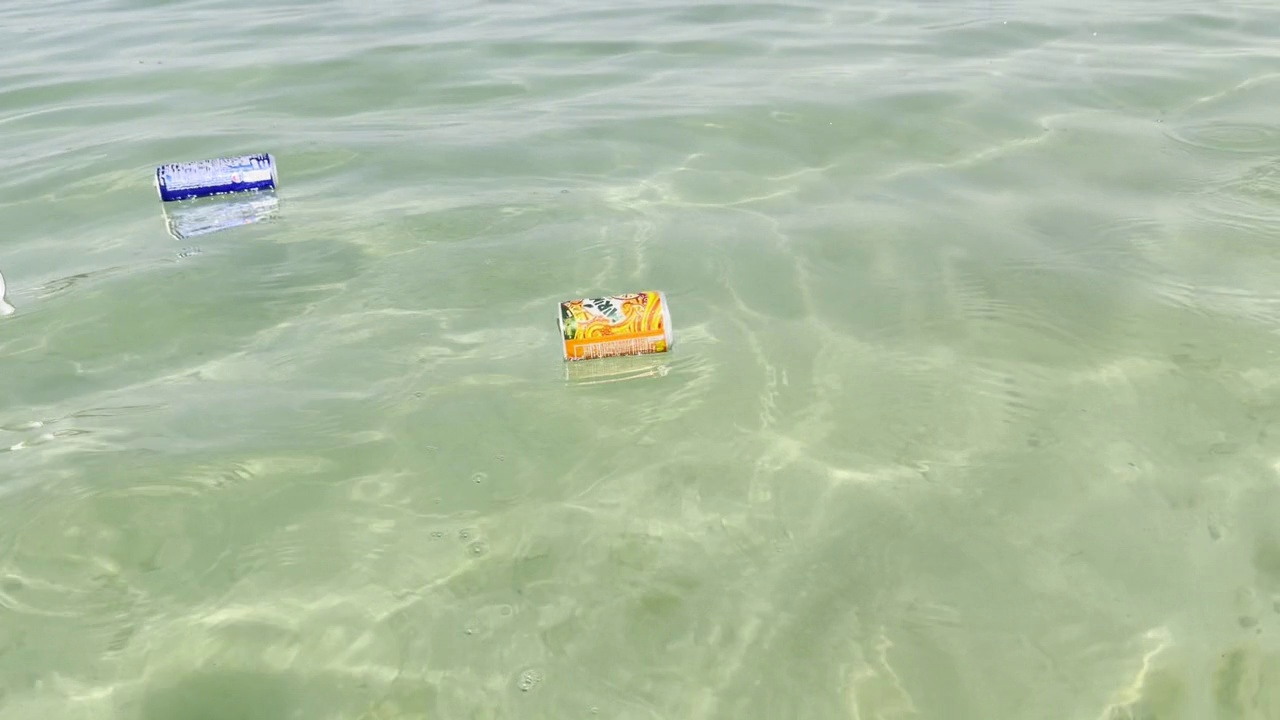debris: (548, 278, 679, 377), (140, 143, 287, 206)
